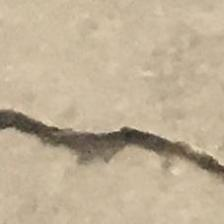Crack: (1, 93, 224, 195)
